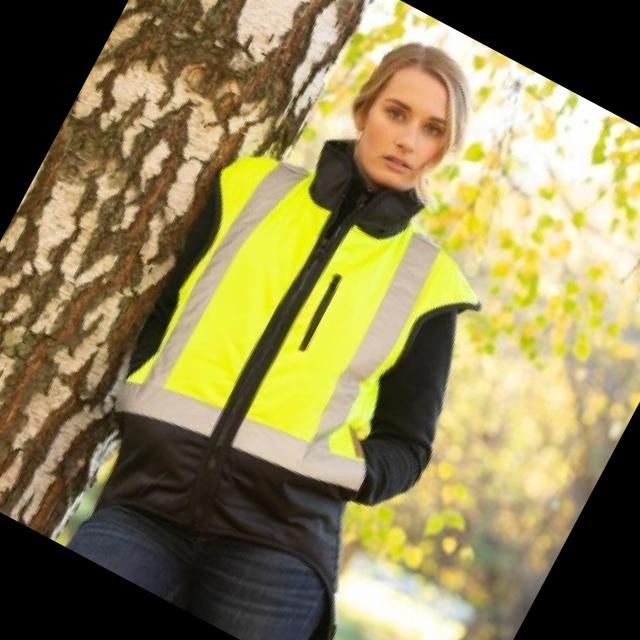safety_vest: (94, 142, 487, 560)
